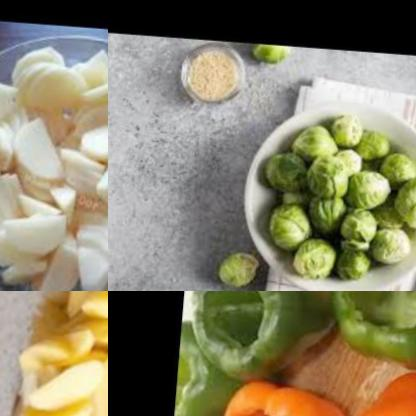bell pepper: (181, 291, 341, 381), (173, 315, 262, 416), (205, 357, 348, 416), (318, 291, 416, 365), (330, 355, 416, 416)
brus capusta: (264, 105, 416, 284), (222, 237, 277, 288), (248, 39, 306, 65)
potato: (0, 28, 108, 291), (0, 291, 108, 416)
